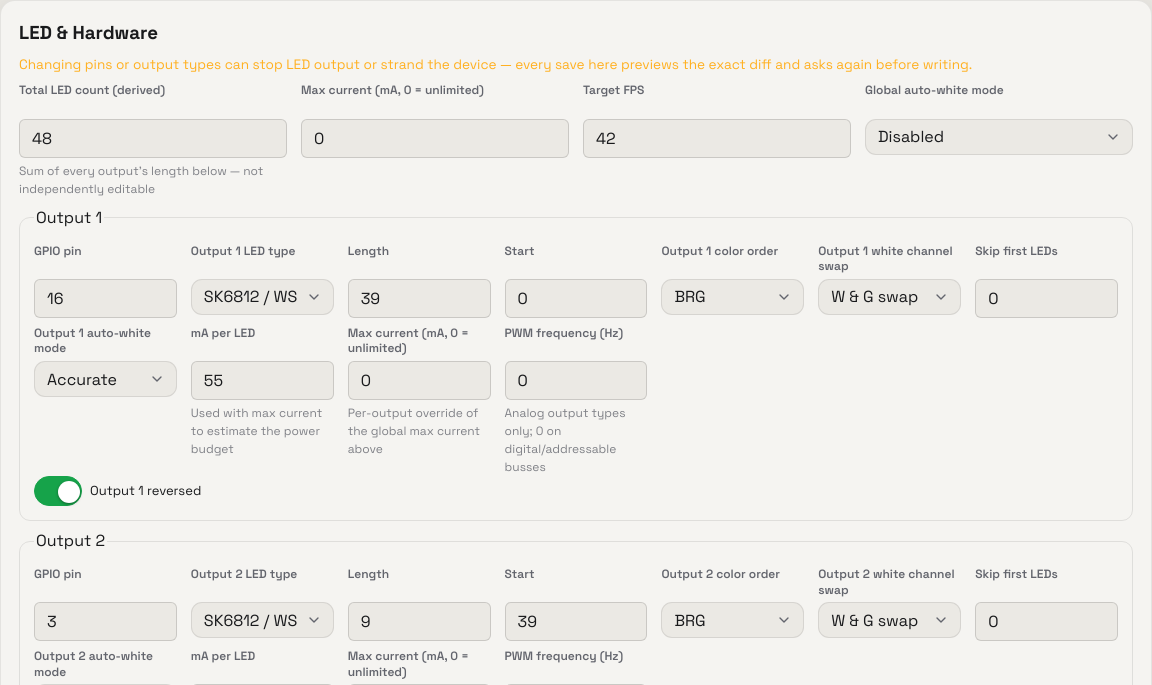
Test: LedHardwareForm › total is derived from the sum of output lengths, not independently editable
Expected: the number field labelled "Total LED count (derived)" holds "48", [19, 119, 287, 158]
Replace the text in the number field labelled "Length" below "Output 1 LED type" with "40" at coordinates (419, 298), box [348, 279, 491, 318]
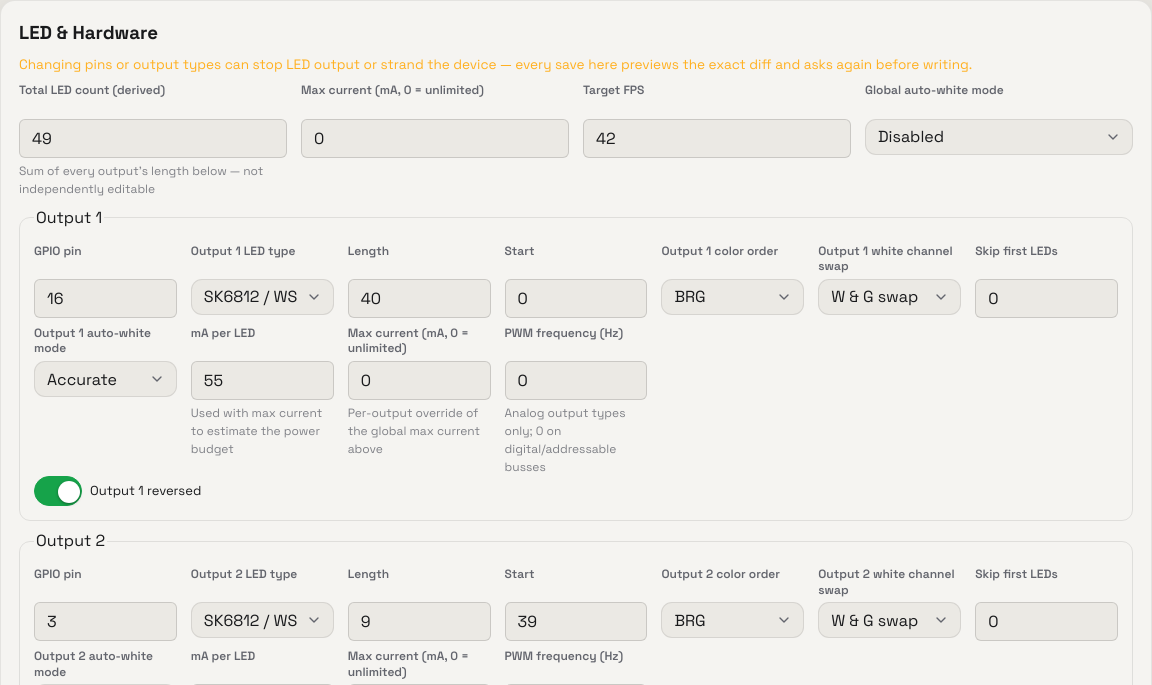
Expected: the number field labelled "Total LED count (derived)" holds "49", [19, 119, 287, 158]
